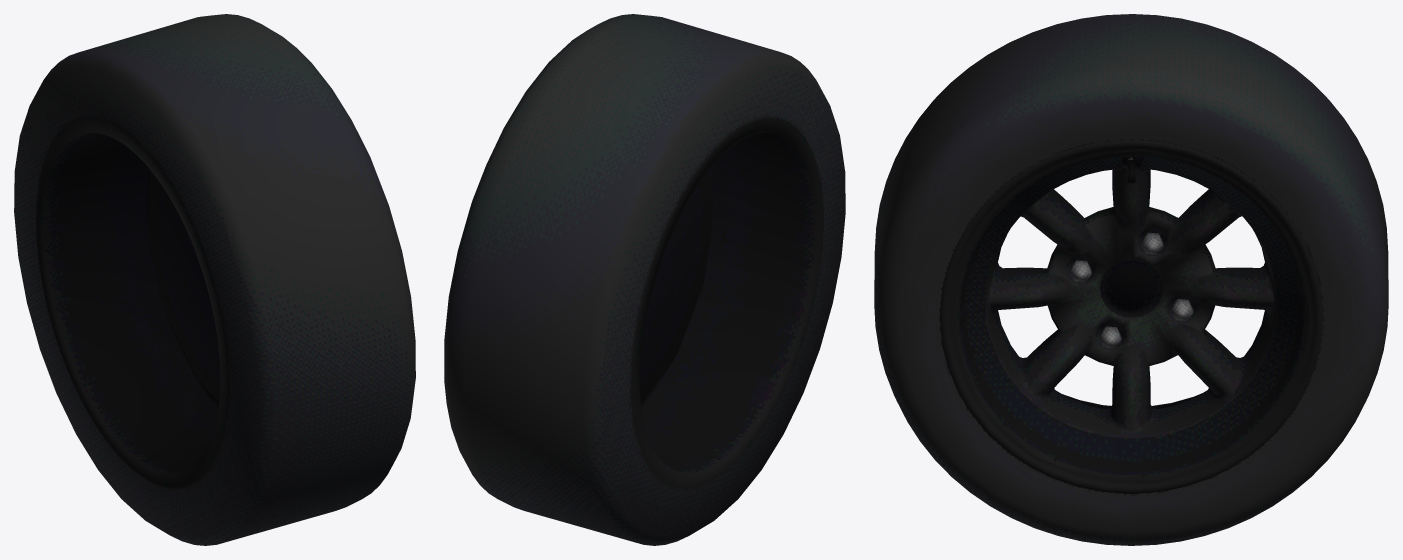
Rendered from wheel_front_right.glb.
3 views of the same model, side by side, from view 1: azimuth 30°, elevation 25°; view 2: azimuth 150°, elevation 25°; view 3: azimuth 270°, elevation 25° (orthographic).
Visible parts, largest first — view 1: Fiat500_Wheel_front_right; view 2: Fiat500_Wheel_front_right; view 3: Fiat500_Wheel_front_right.
Boxes of the visible parts, left/top/right/bottom form: Fiat500_Wheel_front_right: left=14, top=14, right=415, bottom=545; Fiat500_Wheel_front_right: left=444, top=14, right=845, bottom=545; Fiat500_Wheel_front_right: left=874, top=14, right=1388, bottom=545.
Bounding box in the file's own units: 0.2026 × 0.4979 × 0.4932.
1 material, 1 textured.
